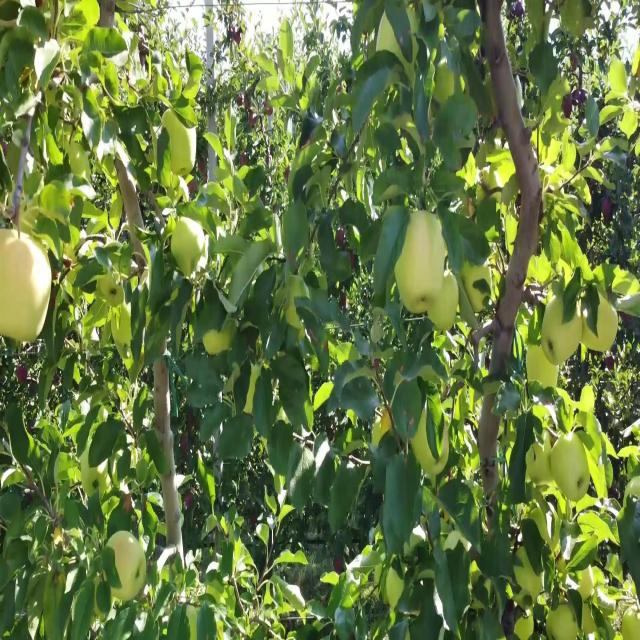apple: (0, 227, 52, 347), (396, 213, 449, 313), (172, 220, 207, 279), (428, 270, 459, 334), (585, 298, 620, 354), (412, 419, 447, 475), (552, 305, 583, 363), (464, 255, 491, 316), (396, 270, 428, 318), (17, 300, 49, 347), (528, 341, 559, 389), (17, 302, 48, 347), (560, 7, 594, 41), (432, 63, 456, 107), (488, 156, 515, 192), (204, 327, 235, 357), (376, 412, 394, 439), (464, 156, 478, 190), (284, 305, 302, 329), (560, 263, 574, 290), (492, 270, 503, 302), (556, 490, 568, 516), (564, 92, 573, 121), (632, 49, 640, 80), (604, 199, 612, 220), (608, 355, 616, 370)
